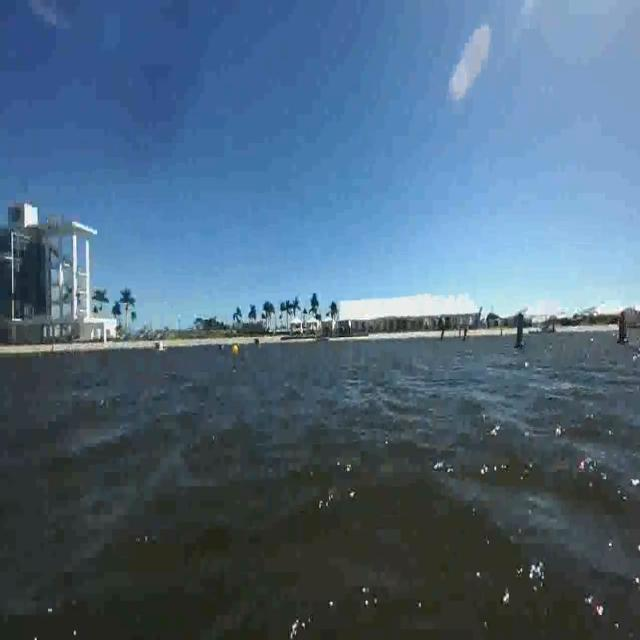yellow-buoy: (233, 344, 241, 357)
